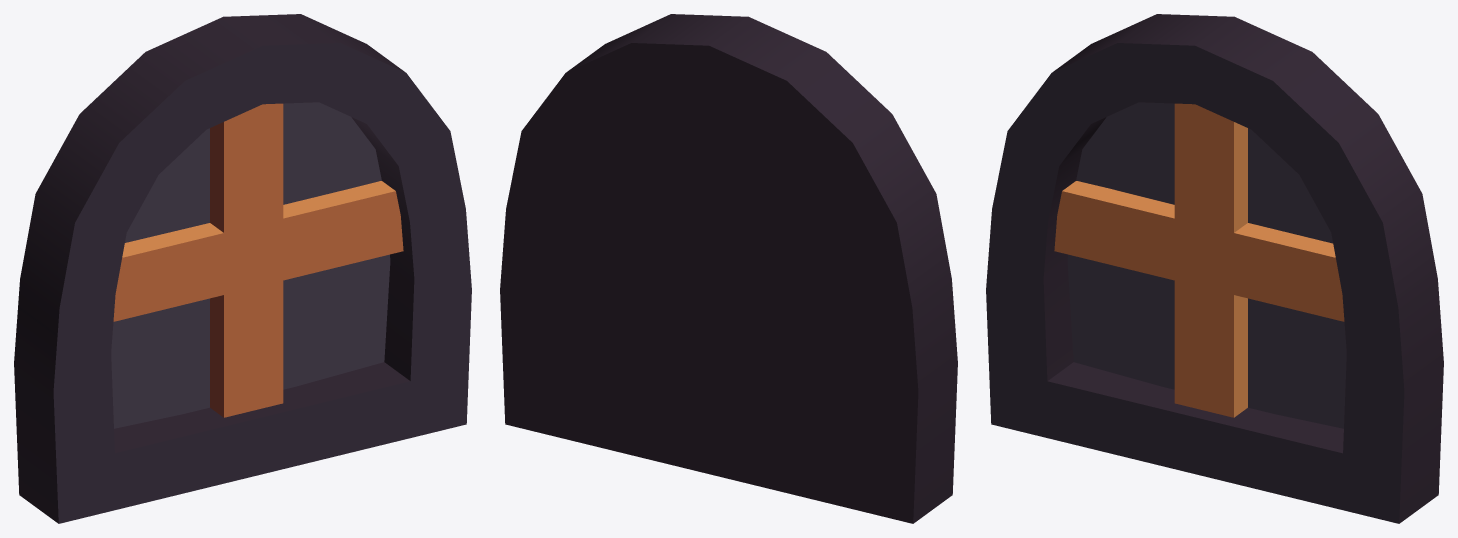
Rendered from SmallWindow01_Black_Wood.glb.
3 renders of one model, left to right at view 1: azimuth 30°, elevation 25°; view 2: azimuth 150°, elevation 25°; view 3: azimuth 330°, elevation 25°, orthographic.
Visible parts, largest first — view 1: SmallWindow01_Black_Wood; view 2: SmallWindow01_Black_Wood; view 3: SmallWindow01_Black_Wood.
Boxes of the visible parts, x1,y1,x2,y2 form: SmallWindow01_Black_Wood: (14,14,471,523); SmallWindow01_Black_Wood: (500,14,957,523); SmallWindow01_Black_Wood: (986,14,1443,523).
Size of the model in its own units: 0.5801 by 0.5676 by 0.0949.
1 material, 1 textured.
